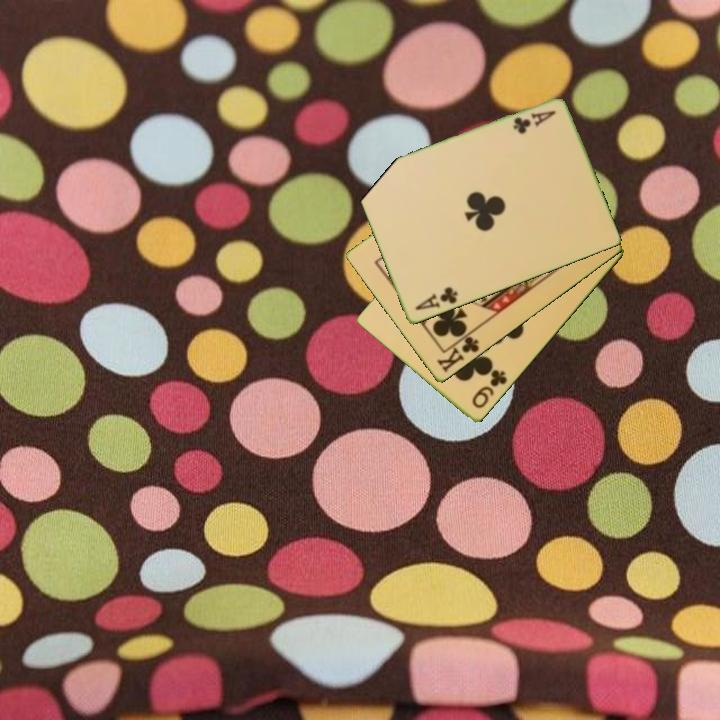9c: (468, 366, 510, 412)
Ac: (411, 283, 461, 314), (510, 107, 559, 137)
Kc: (433, 328, 482, 376)
